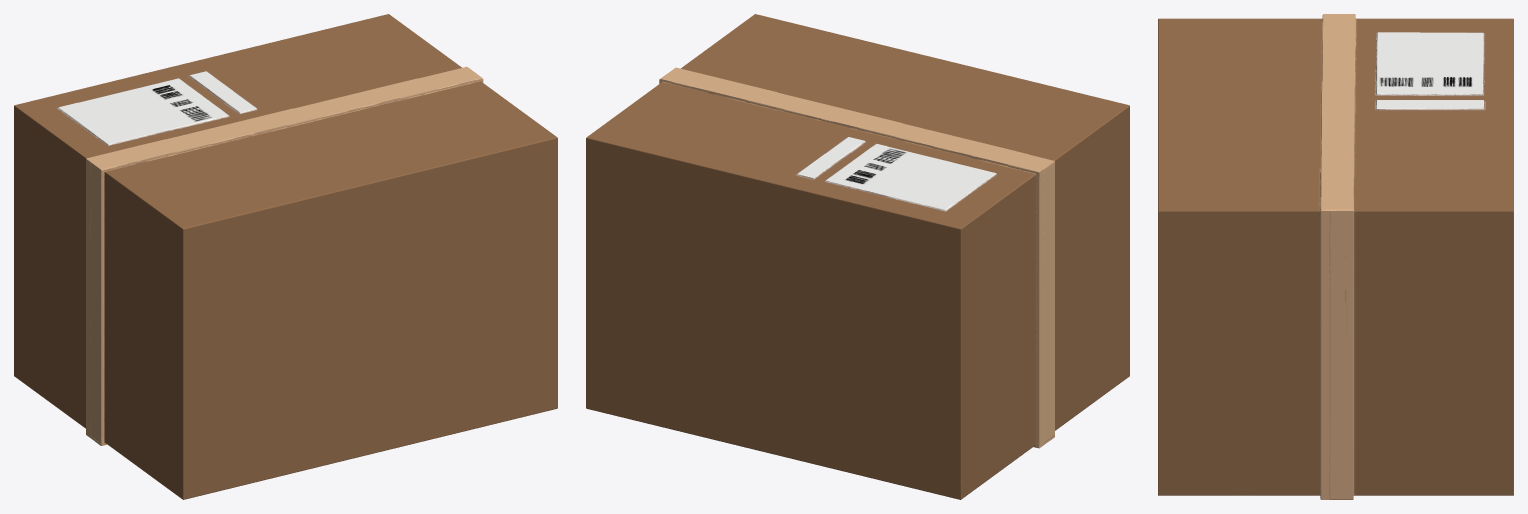
Rendered from paket_1.glb.
The picture shows the model from 3 angles, left to right: view 1: azimuth 30°, elevation 25°; view 2: azimuth 150°, elevation 25°; view 3: azimuth 270°, elevation 25°; orthographic projection. The views are drawn at different scales.
Visible parts, largest first — view 1: 272881_23_05_11_14_56_54_0; view 2: 272881_23_05_11_14_56_54_0; view 3: 272881_23_05_11_14_56_54_0.
Boxes of the visible parts, x1,y1,x2,y2 form: 272881_23_05_11_14_56_54_0: (14, 14, 557, 499); 272881_23_05_11_14_56_54_0: (586, 14, 1129, 499); 272881_23_05_11_14_56_54_0: (1158, 14, 1513, 499).
Bounding box in the file's own units: 5.3 × 3.67 × 4.07.
Materials: 1 (1 with a texture image).
